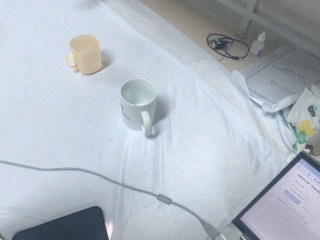cup: (120, 78, 161, 137), (66, 33, 104, 75)
